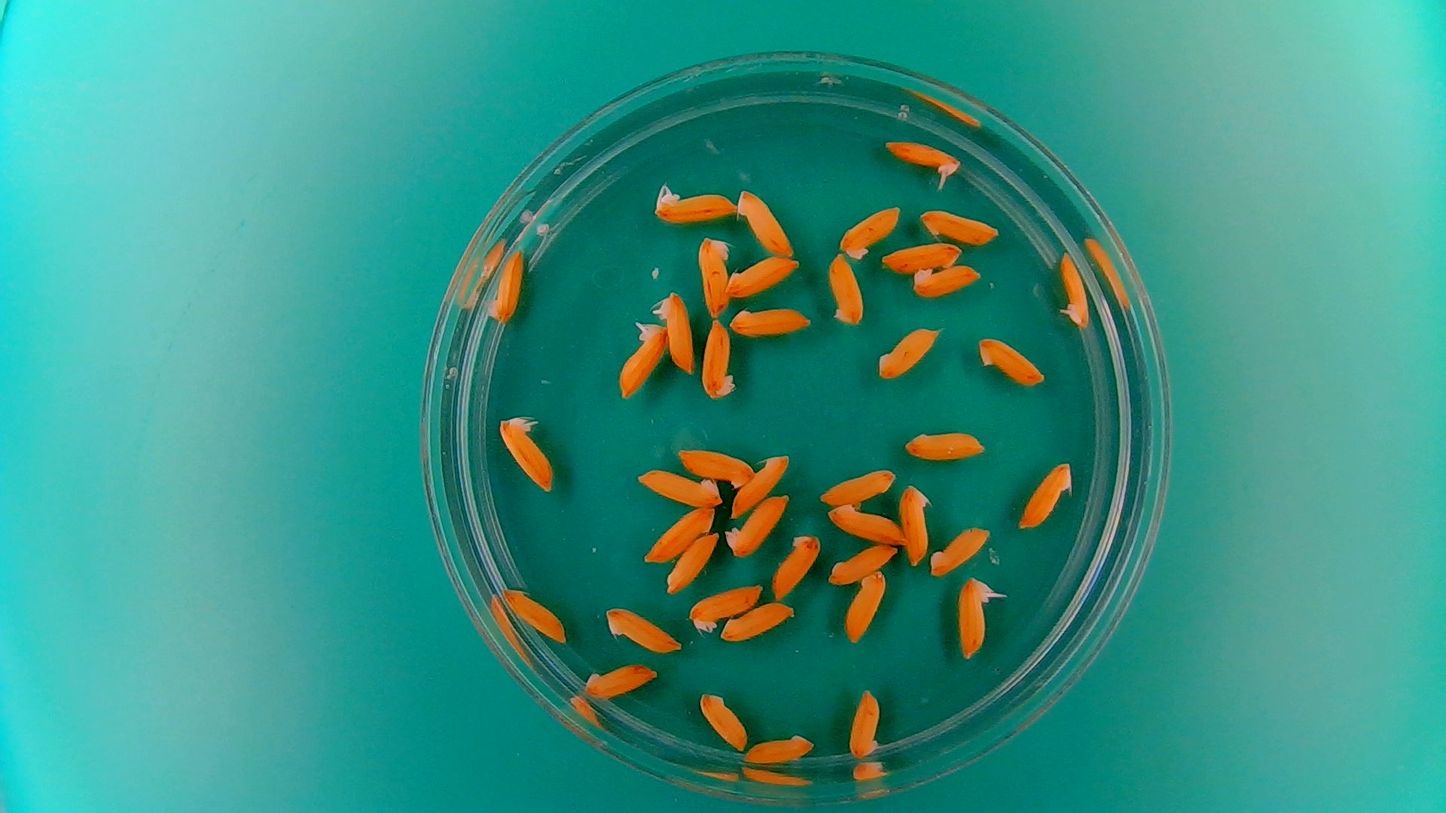no: (736, 184, 797, 257), (642, 504, 715, 564), (725, 491, 791, 557), (600, 602, 682, 655), (499, 584, 569, 644), (1017, 458, 1075, 530), (685, 580, 765, 632), (730, 449, 792, 516), (631, 465, 725, 508), (875, 323, 943, 382), (974, 333, 1046, 387), (836, 202, 902, 260), (770, 528, 822, 601), (664, 529, 720, 595), (825, 501, 906, 546), (674, 443, 755, 488), (723, 253, 802, 299), (927, 522, 992, 577), (718, 598, 797, 643), (697, 687, 748, 752), (843, 569, 888, 642), (484, 246, 526, 324), (699, 316, 737, 402), (899, 425, 987, 462), (580, 659, 659, 700), (827, 542, 899, 586), (816, 466, 897, 505), (919, 206, 999, 245), (727, 302, 813, 338), (879, 239, 962, 276), (826, 251, 865, 327), (847, 687, 886, 762), (697, 234, 731, 318), (910, 261, 984, 299), (899, 481, 930, 568), (742, 730, 816, 765)
yes: (497, 411, 557, 493), (616, 318, 670, 400), (955, 569, 999, 661), (653, 288, 697, 375), (646, 184, 740, 224), (880, 139, 963, 180), (1057, 250, 1091, 329)
